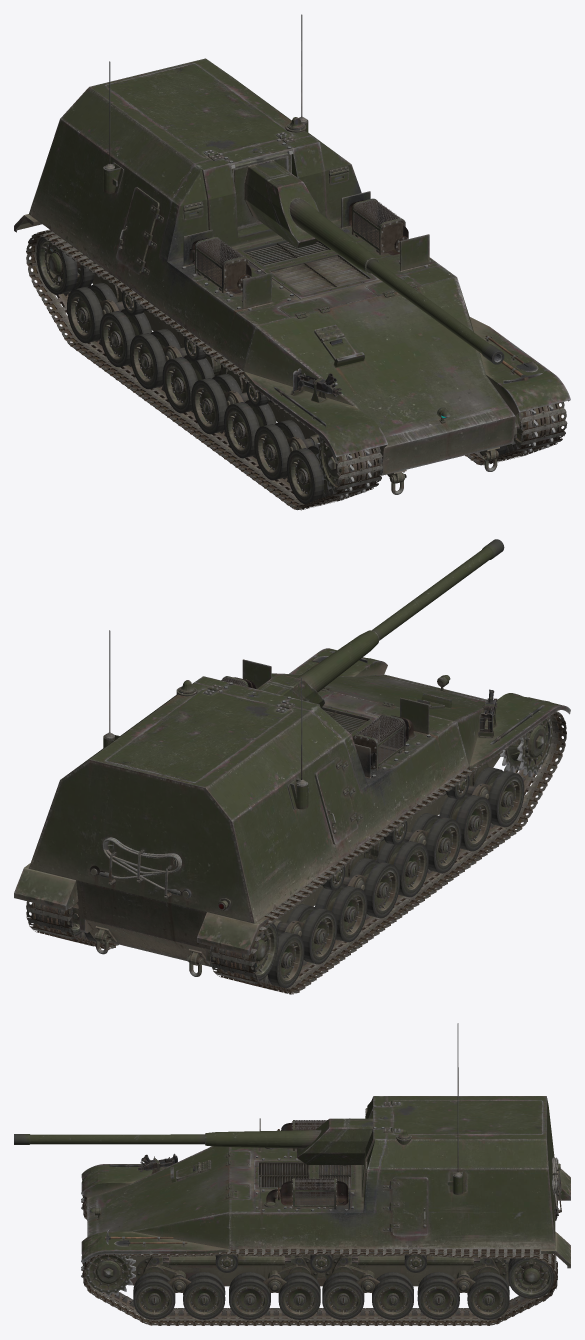
File: Ho-Ri Production.obj
The picture shows the model from 3 angles, top to bottom: view 1: azimuth 30°, elevation 25°; view 2: azimuth 150°, elevation 25°; view 3: azimuth 270°, elevation 25°; orthographic projection. The views are drawn at different scales.
Visible parts, largest first — view 1: vehicle#@root_0, vehicle#track_r_87, vehicle#bone_cap_roller_01_85, vehicle#bone_gun_01_82, vehicle#gun_barrel_83, vehicle#ex_decor_r_02_2, vehicle#ex_decor_l_02_12, vehicle#hatch_07_29, vehicle#track_l_86, vehicle#wheel_r_back_7, vehicle#wheel_r_02_65, vehicle#wheel_r_04_70 (+13 smaller); view 2: vehicle#@root_0, vehicle#track_r_87, vehicle#bone_cap_roller_01_85, vehicle#gun_barrel_83, vehicle#ex_decor_r_02_2, vehicle#hatch_07_29, vehicle#ex_decor_l_06_13, vehicle#wheel_r_03_69, vehicle#wheel_r_01_64, vehicle#wheel_r_07_74, vehicle#wheel_r_05_80, vehicle#wheel_r_02_65 (+14 smaller); view 3: vehicle#@root_0, vehicle#track_l_86, vehicle#bone_cap_roller_01_85, vehicle#gun_barrel_83, vehicle#bone_gun_01_82, vehicle#ex_decor_l_02_12, vehicle#hatch_06_28, vehicle#wheel_l_04_44, vehicle#wheel_l_05_54, vehicle#wheel_l_07_50, vehicle#wheel_l_02_59, vehicle#wheel_l_drive_3 (+10 smaller).
Boxes of the visible parts, left/top/right/bottom form: vehicle#@root_0: left=29, top=58, right=520, bottom=483; vehicle#track_r_87: left=26, top=229, right=383, bottom=510; vehicle#bone_cap_roller_01_85: left=105, top=63, right=293, bottom=157; vehicle#bone_gun_01_82: left=234, top=156, right=318, bottom=248; vehicle#gun_barrel_83: left=289, top=198, right=504, bottom=364; vehicle#ex_decor_r_02_2: left=244, top=371, right=387, bottom=458; vehicle#ex_decor_l_02_12: left=469, top=317, right=570, bottom=415; vehicle#hatch_07_29: left=116, top=187, right=159, bottom=274; vehicle#track_l_86: left=465, top=402, right=567, bottom=465; vehicle#wheel_r_back_7: left=36, top=234, right=94, bottom=294; vehicle#wheel_r_02_65: left=254, top=420, right=304, bottom=480; vehicle#wheel_r_04_70: left=191, top=374, right=241, bottom=434; vehicle#@root_0: left=29, top=673, right=500, bottom=968; vehicle#track_r_87: left=209, top=711, right=566, bottom=994; vehicle#bone_cap_roller_01_85: left=105, top=688, right=292, bottom=782; vehicle#gun_barrel_83: left=297, top=539, right=504, bottom=692; vehicle#ex_decor_r_02_2: left=469, top=693, right=570, bottom=770; vehicle#hatch_07_29: left=314, top=757, right=358, bottom=844; vehicle#ex_decor_l_06_13: left=14, top=863, right=78, bottom=910; vehicle#wheel_r_03_69: left=411, top=813, right=461, bottom=873; vehicle#wheel_r_01_64: left=473, top=767, right=524, bottom=827; vehicle#wheel_r_07_74: left=286, top=904, right=337, bottom=964; vehicle#wheel_r_05_80: left=349, top=858, right=399, bottom=918; vehicle#wheel_r_02_65: left=439, top=793, right=491, bottom=851; vehicle#@root_0: left=87, top=1096, right=561, bottom=1286; vehicle#track_l_86: left=82, top=1249, right=557, bottom=1325; vehicle#bone_cap_roller_01_85: left=391, top=1100, right=542, bottom=1134; vehicle#gun_barrel_83: left=14, top=1130, right=321, bottom=1148; vehicle#bone_gun_01_82: left=297, top=1118, right=372, bottom=1165; vehicle#ex_decor_l_02_12: left=81, top=1231, right=228, bottom=1262; vehicle#hatch_06_28: left=390, top=1177, right=428, bottom=1235; vehicle#wheel_l_04_44: left=278, top=1272, right=320, bottom=1319; vehicle#wheel_l_05_54: left=322, top=1272, right=364, bottom=1319; vehicle#wheel_l_07_50: left=417, top=1272, right=459, bottom=1319; vehicle#wheel_l_02_59: left=183, top=1272, right=225, bottom=1319; vehicle#wheel_l_drive_3: left=81, top=1254, right=135, bottom=1296.
Size of the model in its own units: 3.14 by 3.77 by 8.43.
9 materials, 9 textured.
